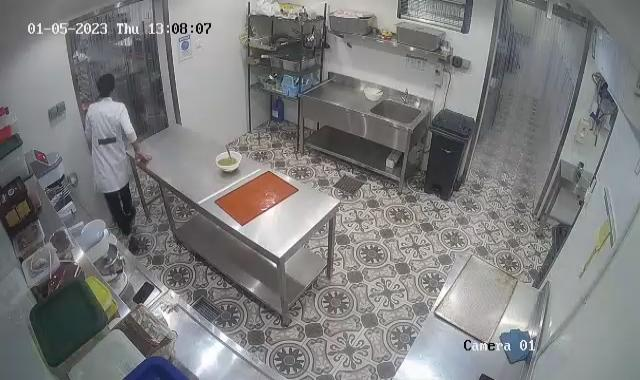no_hairnet: (95, 71, 116, 95)
